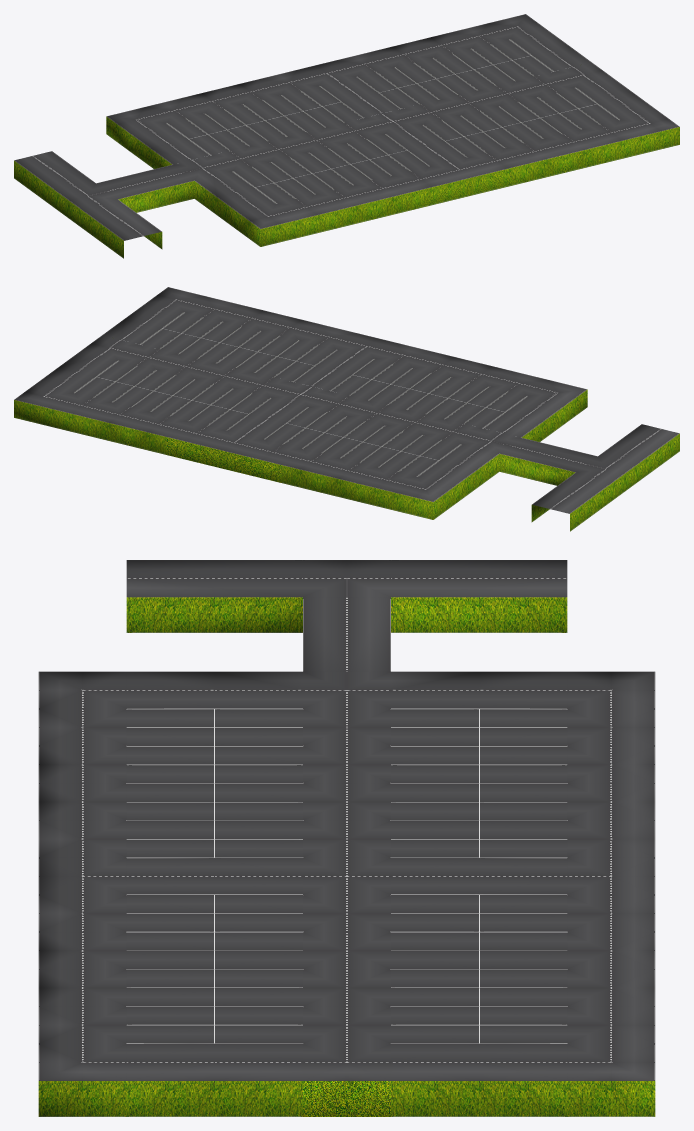
The model's file is parkeerplaats_1_1a.fbx.
The picture shows the model from 3 angles, top to bottom: view 1: azimuth 30°, elevation 25°; view 2: azimuth 150°, elevation 25°; view 3: azimuth 270°, elevation 25°; orthographic projection. The views are drawn at different scales.
Parts seen in each view (by area): view 1: parkeerplaats_1_1a; view 2: parkeerplaats_1_1a; view 3: parkeerplaats_1_1a.
Part boxes in pixels (x1,y1,x2,y2): parkeerplaats_1_1a: (14,14,679,258); parkeerplaats_1_1a: (14,287,679,531); parkeerplaats_1_1a: (38,560,655,1116).
Bounding box in the file's own units: 7000 × 226 × 3500.
